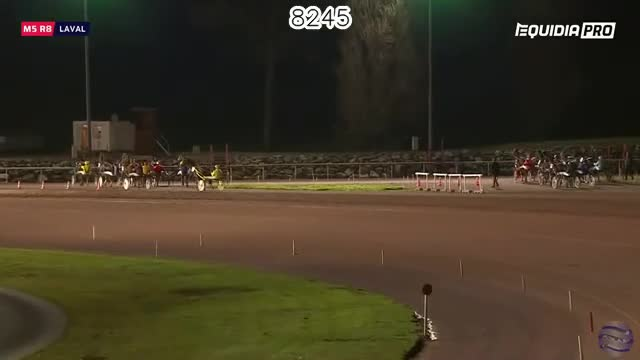bl: (67, 143, 98, 194), (560, 149, 595, 187), (548, 151, 580, 192), (187, 160, 226, 192), (509, 146, 539, 183), (583, 152, 614, 187), (120, 156, 150, 192), (94, 155, 122, 189), (143, 157, 171, 190)
